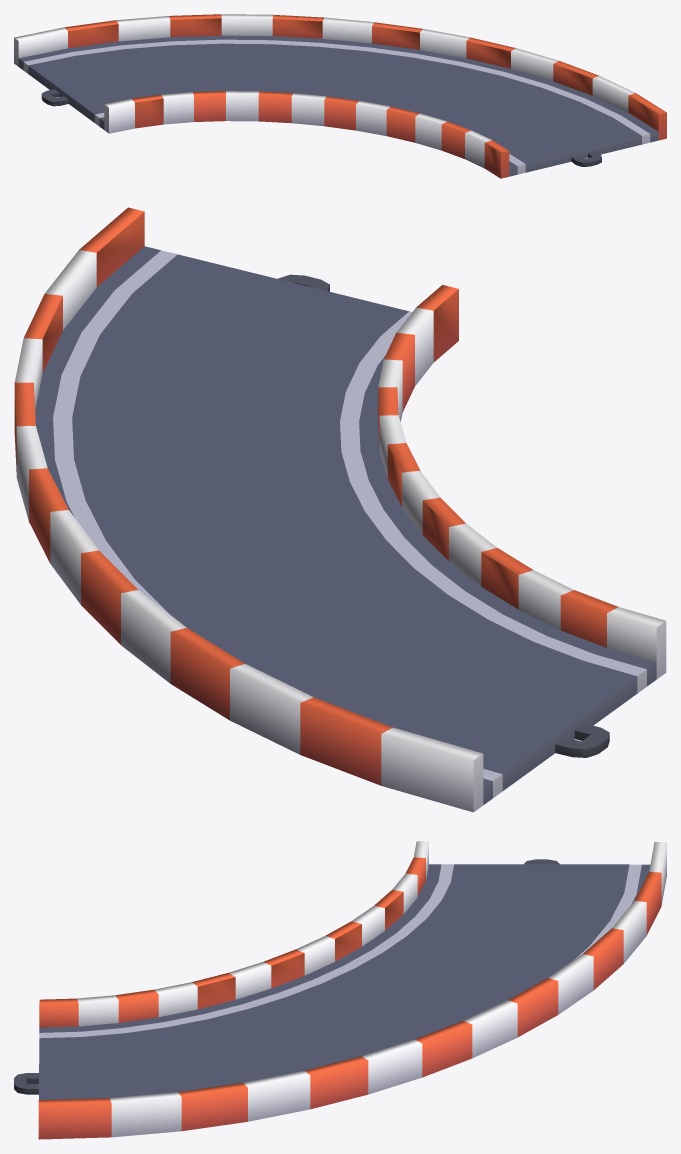
Rendered from track-road-wide-corner-large.023_lev1.glb.
The picture shows the model from 3 angles, top to bottom: view 1: azimuth 30°, elevation 25°; view 2: azimuth 150°, elevation 25°; view 3: azimuth 270°, elevation 25°; orthographic projection. The views are drawn at different scales.
Parts seen in each view (by area): view 1: track-road-wide-corner-large.023_lev1; view 2: track-road-wide-corner-large.023_lev1; view 3: track-road-wide-corner-large.023_lev1.
Part boxes in pixels (x1=…): track-road-wide-corner-large.023_lev1: x1=14, y1=14, x2=666, y2=178; track-road-wide-corner-large.023_lev1: x1=14, y1=207, x2=666, y2=812; track-road-wide-corner-large.023_lev1: x1=14, y1=841, x2=666, y2=1139.
Bounding box in the file's own units: 5.19 × 0.3 × 5.21.
Materials: 1 (1 with a texture image).
